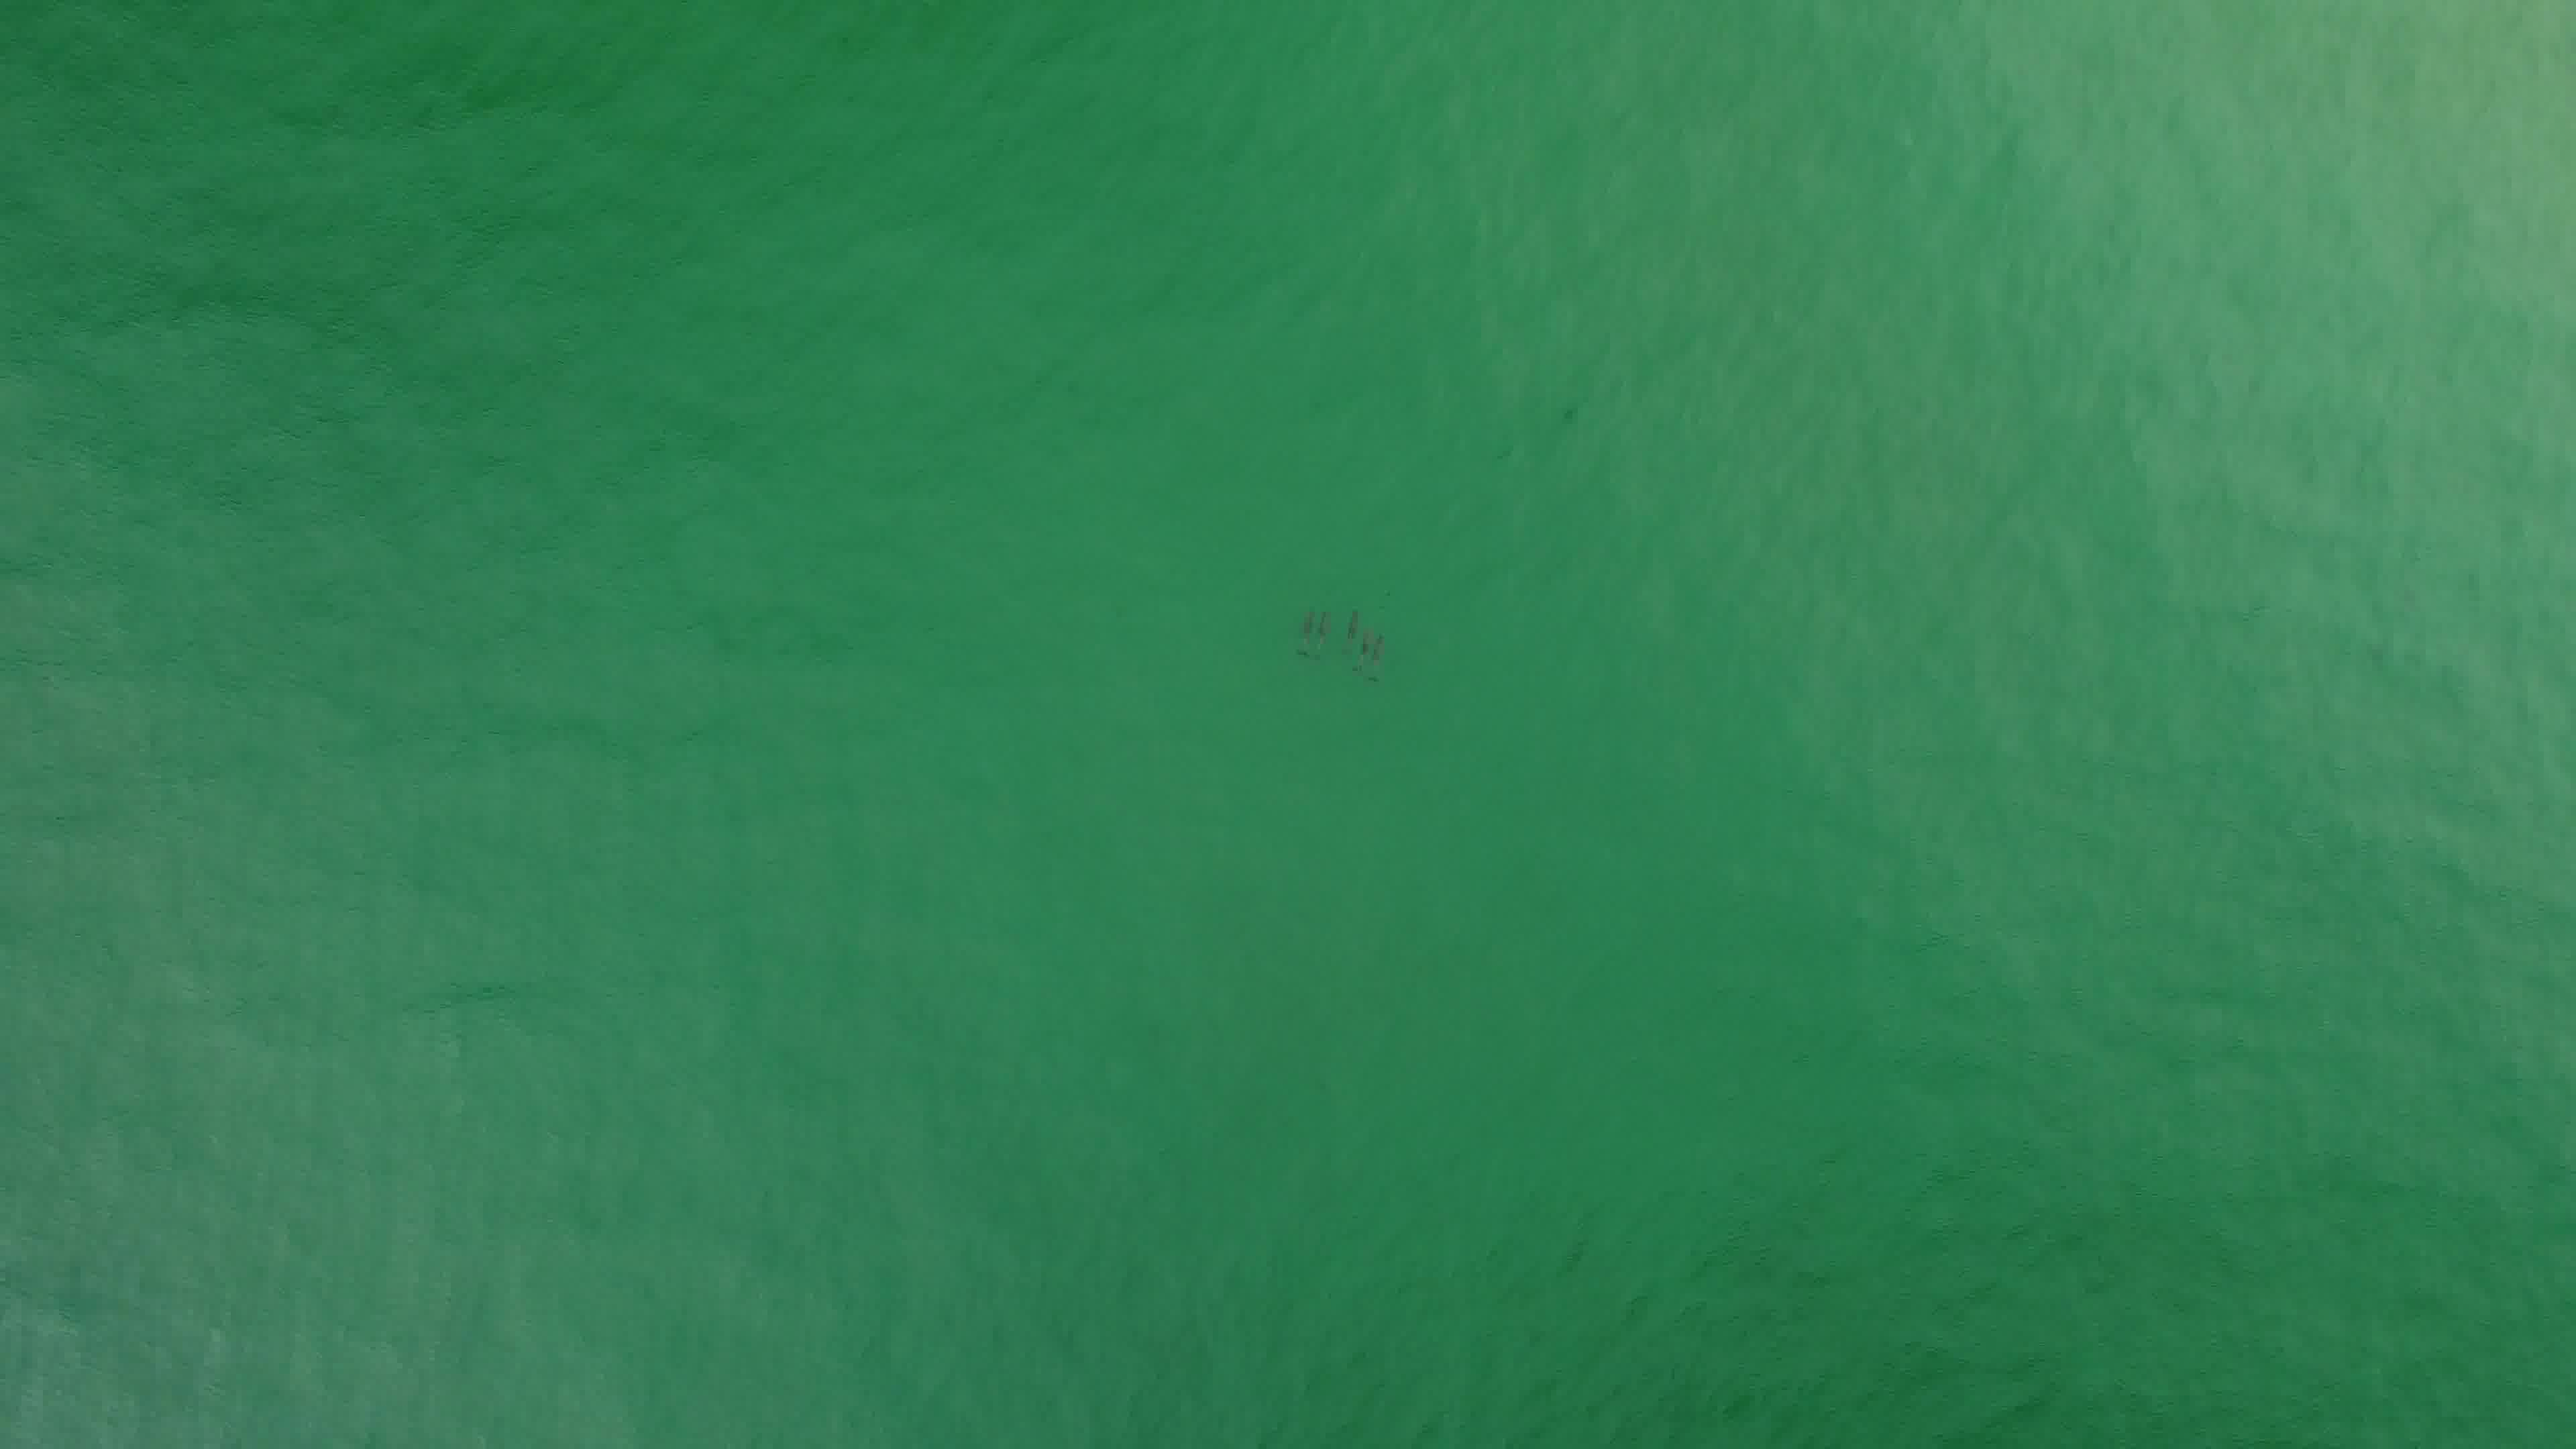dolphin: (1341, 600, 1401, 702), (1302, 594, 1345, 671), (1323, 593, 1361, 679), (1343, 603, 1378, 688), (1288, 602, 1320, 665)
